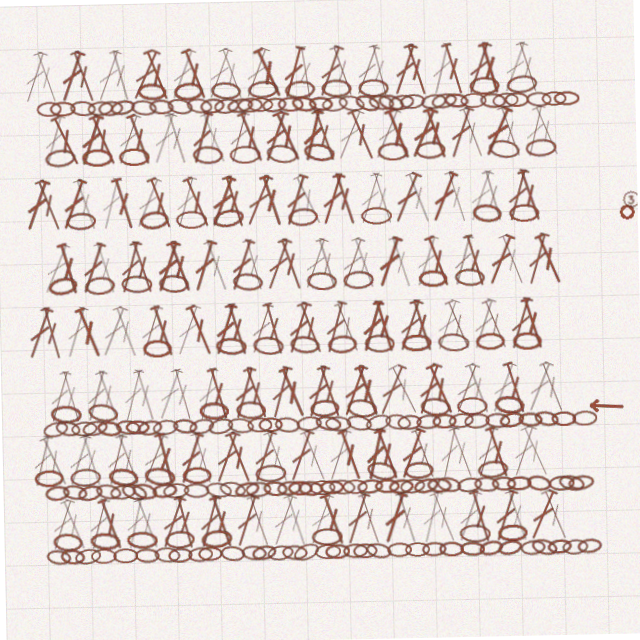chain: (362, 460, 395, 485), (306, 141, 339, 164), (214, 205, 247, 228), (85, 397, 117, 420), (269, 142, 302, 164), (491, 142, 524, 164), (140, 462, 173, 484), (48, 270, 80, 292), (344, 398, 376, 420), (104, 462, 136, 484), (511, 78, 543, 99), (252, 334, 284, 355), (196, 526, 228, 547), (287, 540, 316, 563), (141, 206, 172, 227), (474, 206, 505, 227), (233, 270, 264, 291), (289, 334, 320, 355), (492, 398, 523, 419), (289, 79, 321, 99), (48, 143, 80, 163), (437, 335, 469, 355), (48, 399, 80, 419), (474, 463, 506, 483), (381, 93, 410, 115), (116, 477, 145, 499), (215, 79, 246, 99), (85, 271, 116, 291), (307, 271, 338, 291), (418, 399, 449, 419), (48, 527, 79, 547), (85, 527, 116, 547), (358, 93, 386, 115), (362, 413, 391, 434), (525, 541, 554, 562), (252, 79, 284, 98), (178, 79, 209, 98), (326, 79, 357, 98), (196, 143, 227, 162), (529, 143, 560, 162), (122, 271, 153, 290), (159, 271, 190, 290), (344, 271, 375, 290), (455, 271, 486, 290), (215, 335, 246, 354), (67, 463, 98, 482), (252, 463, 283, 482), (122, 527, 153, 546), (455, 527, 486, 546), (127, 477, 155, 498), (142, 79, 172, 98), (419, 143, 449, 162), (68, 207, 98, 226), (290, 207, 320, 226), (327, 335, 357, 354), (364, 335, 394, 354), (197, 399, 227, 418), (234, 399, 264, 418), (308, 399, 338, 418), (401, 463, 431, 482), (160, 527, 190, 546), (342, 94, 370, 114), (343, 414, 371, 434), (554, 478, 582, 498), (360, 542, 388, 562), (363, 80, 394, 98), (474, 80, 505, 98), (85, 144, 116, 162), (122, 144, 153, 162), (233, 144, 264, 162), (381, 144, 412, 162), (178, 208, 209, 226), (363, 208, 394, 226), (511, 208, 542, 226), (455, 400, 486, 418), (307, 528, 338, 546), (419, 272, 449, 290), (142, 336, 172, 354), (401, 336, 431, 354), (475, 336, 505, 354), (512, 336, 542, 354), (40, 414, 67, 434), (186, 414, 213, 434), (205, 414, 232, 434), (31, 464, 61, 482), (179, 464, 209, 482), (73, 478, 100, 498), (230, 478, 257, 498), (409, 478, 436, 498), (493, 528, 523, 546), (190, 94, 218, 113), (435, 94, 463, 113), (79, 414, 107, 433), (312, 414, 340, 433), (382, 414, 410, 433), (91, 478, 119, 497), (215, 478, 243, 497), (69, 542, 97, 561), (114, 94, 141, 113), (171, 94, 198, 113), (295, 94, 322, 113), (52, 414, 79, 433), (496, 414, 523, 433), (531, 414, 558, 433), (58, 478, 85, 497), (432, 478, 459, 497), (522, 478, 549, 497), (246, 542, 273, 561), (473, 542, 500, 561), (492, 542, 519, 561), (372, 95, 400, 113), (392, 95, 420, 113), (201, 479, 229, 497), (135, 95, 162, 113), (231, 95, 258, 113), (326, 95, 353, 113), (425, 95, 452, 113), (150, 415, 177, 433), (225, 415, 252, 433), (106, 479, 133, 497), (564, 479, 591, 497), (262, 543, 289, 561), (218, 95, 244, 113), (266, 95, 292, 113), (94, 415, 120, 433), (135, 415, 161, 433), (272, 415, 298, 433), (396, 479, 422, 497), (453, 479, 479, 497), (41, 543, 67, 561), (74, 95, 101, 112), (159, 479, 186, 496), (325, 479, 352, 496), (353, 479, 380, 496), (149, 543, 176, 560), (153, 95, 179, 112), (204, 95, 230, 112), (404, 95, 430, 112), (448, 95, 474, 112), (113, 415, 139, 432), (170, 415, 196, 432), (294, 415, 320, 432), (446, 415, 472, 432), (41, 479, 67, 496), (148, 479, 174, 496), (259, 479, 285, 496), (273, 479, 299, 496), (423, 479, 449, 496), (470, 479, 496, 496), (55, 543, 81, 560), (215, 543, 241, 560), (236, 543, 262, 560), (542, 543, 568, 560), (572, 543, 598, 560), (484, 96, 511, 112), (557, 544, 584, 560), (92, 96, 118, 112), (102, 96, 128, 112), (497, 96, 523, 112), (69, 416, 95, 432), (323, 416, 349, 432), (462, 416, 488, 432), (180, 480, 206, 496), (242, 480, 268, 496), (294, 480, 320, 496), (545, 480, 571, 496), (277, 544, 303, 560), (515, 544, 541, 560), (313, 96, 338, 112), (531, 96, 556, 112), (395, 416, 420, 432), (414, 416, 439, 432), (483, 416, 508, 432), (516, 416, 541, 432), (385, 480, 410, 496), (130, 544, 155, 560), (163, 544, 188, 560), (183, 544, 208, 560), (455, 544, 480, 560), (54, 96, 80, 111), (252, 96, 278, 111), (282, 96, 308, 111), (465, 96, 491, 111), (558, 96, 584, 111), (306, 480, 332, 495), (86, 544, 112, 559), (310, 544, 336, 559), (41, 96, 66, 111), (242, 96, 267, 111), (509, 96, 534, 111), (546, 96, 571, 111), (123, 416, 148, 431), (245, 416, 270, 431), (256, 416, 281, 431), (430, 416, 455, 431), (549, 416, 574, 431), (570, 416, 595, 431), (284, 480, 309, 495), (316, 480, 341, 495), (339, 480, 364, 495), (371, 480, 396, 495), (488, 480, 513, 495), (503, 480, 528, 495), (108, 544, 133, 559), (193, 544, 218, 559), (320, 544, 345, 559), (338, 544, 363, 559), (348, 544, 373, 559), (382, 544, 407, 559), (400, 544, 425, 559), (417, 544, 442, 559), (434, 544, 459, 559)
double: (383, 364, 422, 419), (132, 44, 170, 99), (255, 44, 293, 99), (51, 108, 89, 163), (483, 108, 521, 163), (292, 172, 330, 227), (33, 428, 71, 483), (520, 492, 558, 547), (273, 108, 310, 163), (335, 108, 372, 163), (532, 108, 569, 163), (132, 172, 169, 227), (243, 172, 280, 227), (391, 172, 428, 227), (39, 236, 76, 291), (532, 236, 569, 291), (372, 364, 409, 419), (421, 364, 458, 419), (520, 364, 557, 419), (514, 428, 551, 483), (170, 44, 206, 99), (89, 108, 125, 163), (200, 108, 236, 163), (237, 108, 273, 163), (348, 108, 384, 163), (373, 108, 409, 163), (410, 108, 446, 163), (182, 172, 218, 227), (207, 172, 243, 227), (429, 172, 465, 227), (484, 236, 520, 291), (71, 300, 107, 355), (96, 300, 132, 355), (182, 300, 218, 355), (447, 364, 483, 419), (484, 364, 520, 419), (133, 428, 169, 483), (293, 428, 329, 483), (52, 492, 88, 547), (533, 492, 569, 547), (96, 44, 131, 99), (145, 44, 180, 99), (207, 44, 242, 99), (244, 44, 279, 99), (318, 44, 353, 99), (355, 44, 390, 99), (503, 44, 538, 99), (151, 108, 186, 163), (262, 108, 297, 163), (385, 108, 420, 163), (22, 172, 57, 227), (34, 172, 69, 227), (59, 172, 94, 227), (404, 172, 439, 227), (466, 172, 501, 227), (262, 236, 297, 291), (299, 236, 334, 291), (336, 236, 371, 291), (422, 236, 457, 291), (496, 236, 531, 291), (22, 300, 57, 355), (170, 300, 205, 355), (293, 300, 328, 355), (330, 300, 365, 355), (441, 300, 476, 355), (478, 300, 513, 355), (151, 364, 186, 419), (274, 364, 309, 419), (336, 364, 371, 419), (207, 428, 242, 483), (219, 428, 254, 483), (281, 428, 316, 483), (392, 428, 427, 483), (126, 492, 161, 547), (262, 492, 297, 547), (299, 492, 334, 547), (422, 492, 457, 547), (23, 44, 57, 99), (60, 44, 94, 99), (72, 44, 106, 99), (183, 44, 217, 99), (220, 44, 254, 99), (393, 44, 427, 99), (467, 44, 501, 99), (78, 108, 112, 163), (115, 108, 149, 163), (423, 108, 457, 163), (448, 108, 482, 163), (497, 108, 531, 163), (146, 172, 180, 227), (152, 236, 186, 291), (164, 236, 198, 291), (201, 236, 235, 291), (226, 236, 260, 291), (275, 236, 309, 291), (374, 236, 408, 291), (411, 236, 445, 291), (109, 300, 143, 355), (282, 300, 316, 355), (393, 300, 427, 355), (430, 300, 464, 355), (467, 300, 501, 355), (90, 364, 124, 419), (238, 364, 272, 419), (349, 364, 383, 419), (411, 364, 445, 419), (460, 364, 494, 419), (534, 364, 568, 419), (171, 428, 205, 483), (257, 428, 291, 483), (319, 428, 353, 483), (442, 428, 476, 483), (504, 428, 538, 483), (41, 492, 75, 547), (90, 492, 124, 547), (152, 492, 186, 547), (226, 492, 260, 547), (312, 492, 346, 547), (374, 492, 408, 547), (448, 492, 482, 547), (35, 44, 68, 99), (331, 44, 364, 99), (127, 108, 160, 163), (312, 108, 345, 163), (460, 108, 493, 163), (72, 172, 105, 227), (282, 172, 315, 227), (319, 172, 352, 227), (331, 172, 364, 227), (356, 172, 389, 227), (78, 236, 111, 291), (127, 236, 160, 291), (189, 236, 222, 291), (349, 236, 382, 291), (386, 236, 419, 291), (60, 300, 93, 355), (134, 300, 167, 355), (245, 300, 278, 355), (504, 300, 537, 355), (300, 364, 333, 419), (312, 364, 345, 419), (60, 428, 93, 483), (109, 428, 142, 483), (245, 428, 278, 483), (331, 428, 364, 483), (368, 428, 401, 483), (405, 428, 438, 483), (479, 428, 512, 483), (201, 492, 234, 547), (337, 492, 370, 547), (485, 492, 518, 547), (497, 492, 530, 547), (283, 44, 315, 99), (406, 44, 438, 99), (443, 44, 475, 99), (517, 44, 549, 99), (42, 108, 74, 163), (165, 108, 197, 163), (110, 172, 142, 227), (172, 172, 204, 227), (221, 172, 253, 227), (258, 172, 290, 227), (369, 172, 401, 227), (443, 172, 475, 227), (517, 172, 549, 227), (91, 236, 123, 291), (523, 236, 555, 291), (147, 300, 179, 355), (209, 300, 241, 355), (221, 300, 253, 355), (406, 300, 438, 355), (517, 300, 549, 355), (42, 364, 74, 419), (79, 364, 111, 419), (128, 364, 160, 419), (227, 364, 259, 419), (498, 364, 530, 419), (73, 428, 105, 483), (468, 428, 500, 483), (239, 492, 271, 547), (276, 492, 308, 547), (350, 492, 382, 547), (387, 492, 419, 547), (480, 44, 511, 99), (227, 108, 258, 163), (505, 172, 536, 227), (54, 236, 85, 291), (116, 236, 147, 291), (313, 236, 344, 291), (449, 236, 480, 291), (461, 236, 492, 291), (320, 300, 351, 355), (357, 300, 388, 355), (369, 300, 400, 355), (54, 364, 85, 419), (116, 364, 147, 419), (202, 364, 233, 419), (264, 364, 295, 419), (98, 428, 129, 483), (184, 428, 215, 483), (79, 492, 110, 547), (190, 492, 221, 547), (461, 492, 492, 547), (111, 44, 141, 99), (432, 44, 462, 99), (191, 108, 221, 163), (302, 108, 332, 163), (524, 108, 554, 163), (99, 172, 129, 227), (481, 172, 511, 227), (240, 236, 270, 291), (37, 300, 67, 355), (259, 300, 289, 355), (166, 364, 196, 419), (191, 364, 221, 419), (166, 492, 196, 547), (413, 492, 443, 547), (370, 44, 399, 99), (25, 428, 54, 483), (148, 428, 177, 483), (432, 428, 461, 483), (117, 492, 146, 547), (359, 428, 387, 483), (298, 45, 323, 99)
noise: (585, 404, 622, 419), (620, 209, 639, 228), (623, 195, 640, 216)
